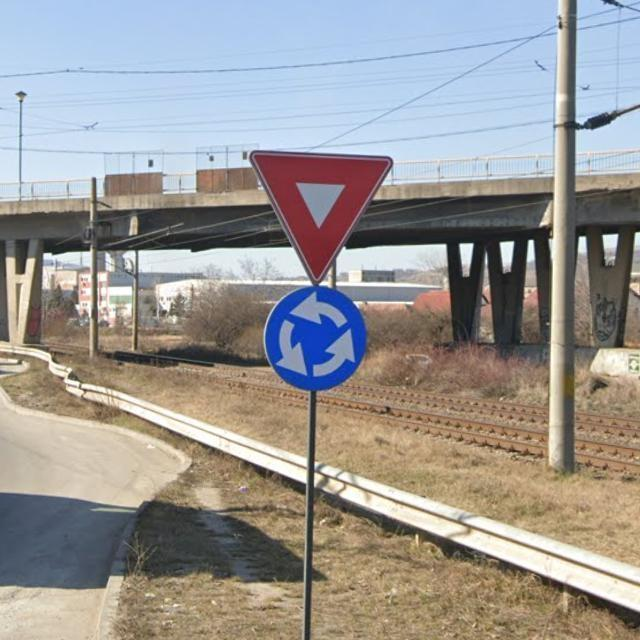prio_give_way: (247, 149, 395, 283)
